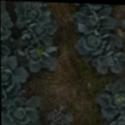cabbage: (83, 36, 99, 50), (12, 107, 26, 122), (85, 15, 98, 27), (26, 6, 38, 19), (114, 92, 125, 106), (27, 48, 39, 60), (103, 56, 116, 66), (34, 25, 46, 35), (1, 70, 10, 80), (0, 22, 4, 36), (120, 121, 125, 125)
